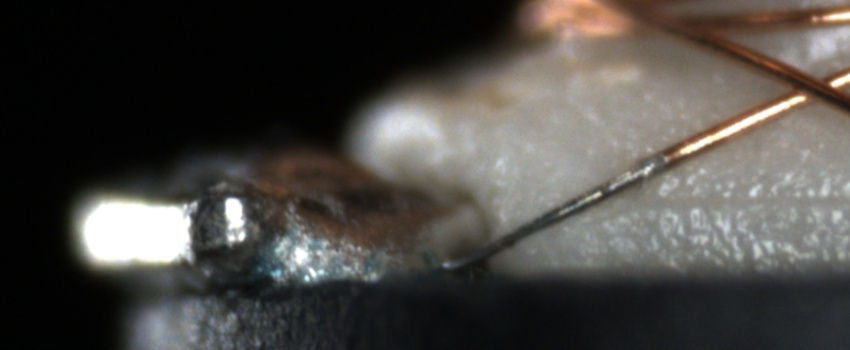CL: (766, 59, 845, 113)
DL: (615, 167, 850, 231)
TS: (442, 151, 667, 272)
TTCW: (458, 112, 739, 267)
